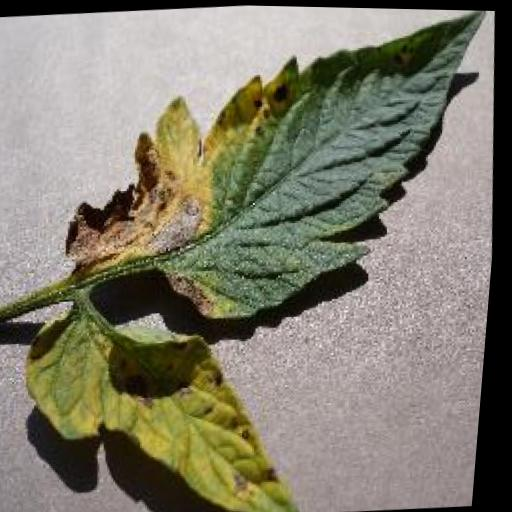Early Blight: (0, 1, 512, 512)
